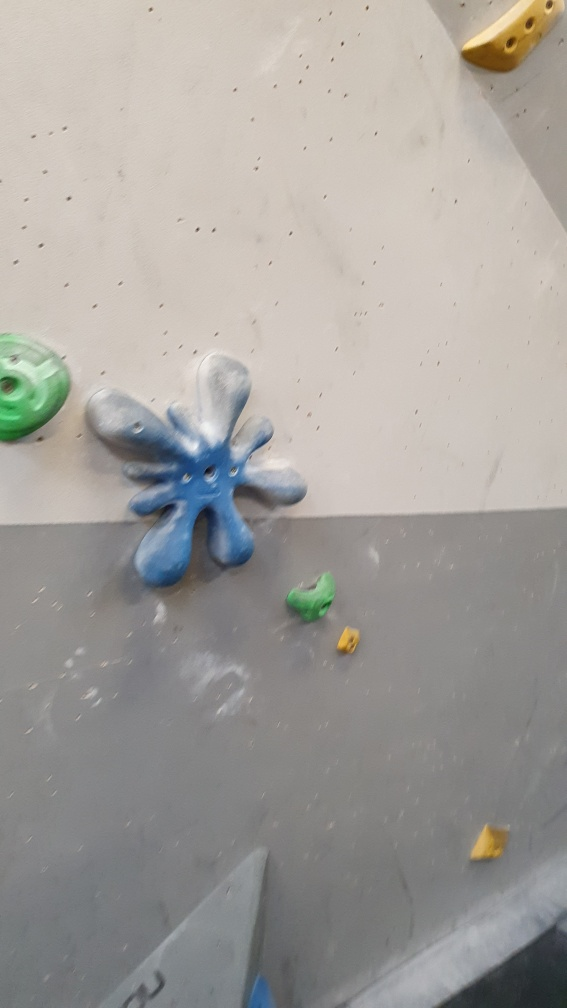Jug: (277, 560, 342, 627)
Octopus Pinch: (81, 347, 315, 590)
